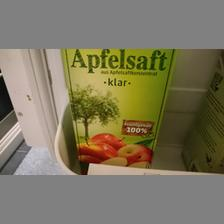Saft: (60, 48, 176, 172)
